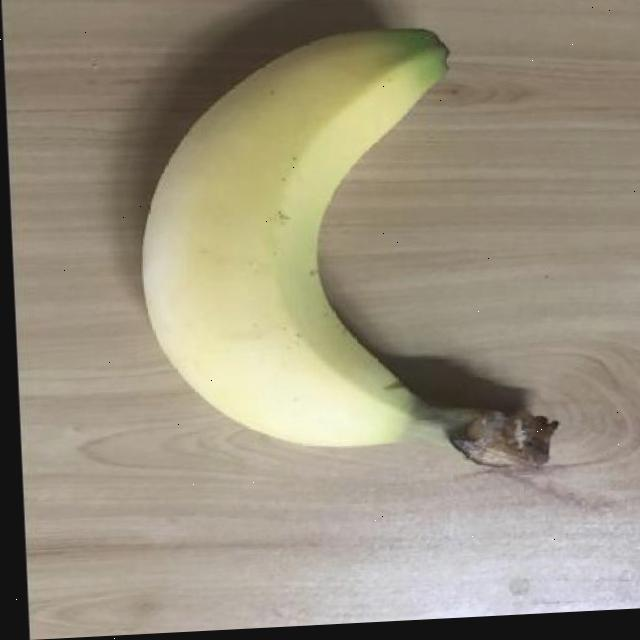banana: (124, 18, 566, 493)
